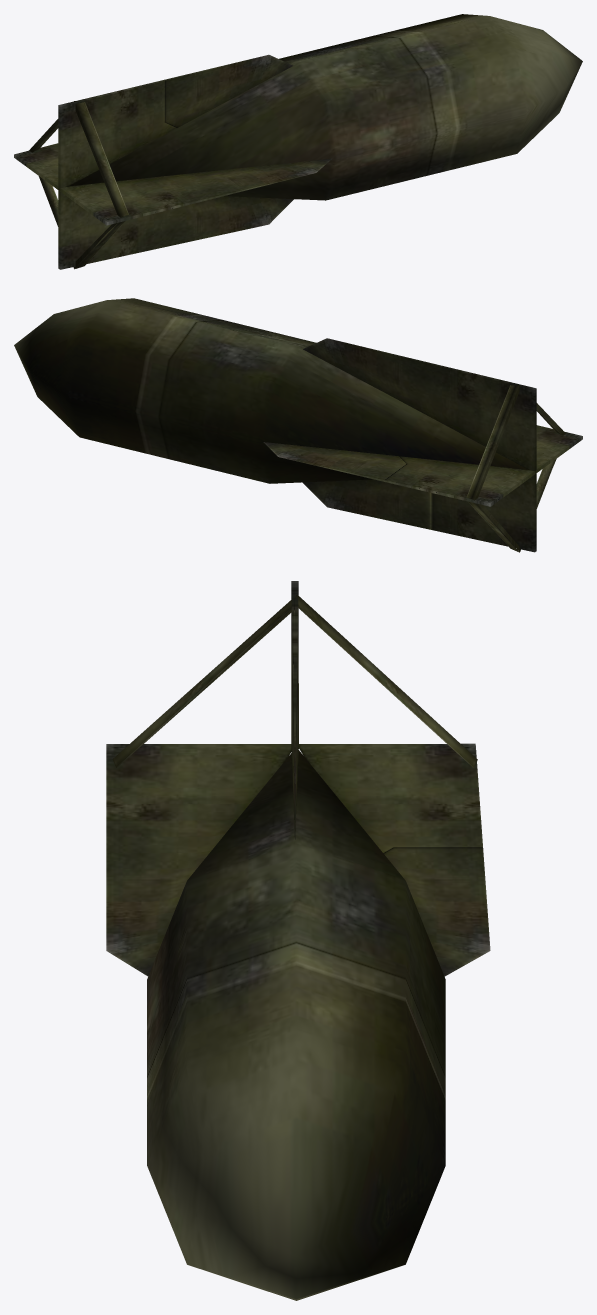
File: prop_stuka_bomb.glb
3 renders of one model, top to bottom at view 1: azimuth 30°, elevation 25°; view 2: azimuth 150°, elevation 25°; view 3: azimuth 270°, elevation 25°, orthographic. The views are drawn at different scales.
Bounding box in the file's own units: 36.8 × 11.46 × 11.73.
Materials: 1 (1 with a texture image).
